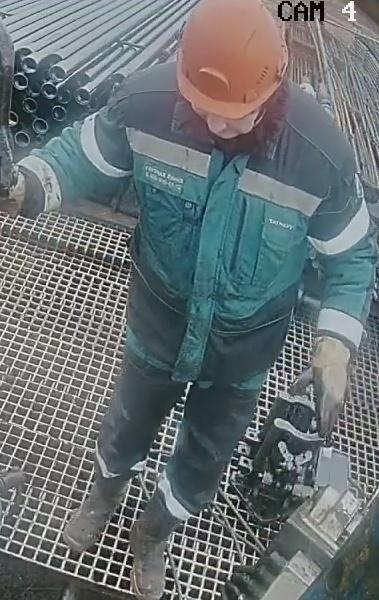gloves: (287, 335, 352, 441), (0, 165, 31, 224)
helmet: (175, 0, 289, 119)
vest: (80, 60, 369, 385)
